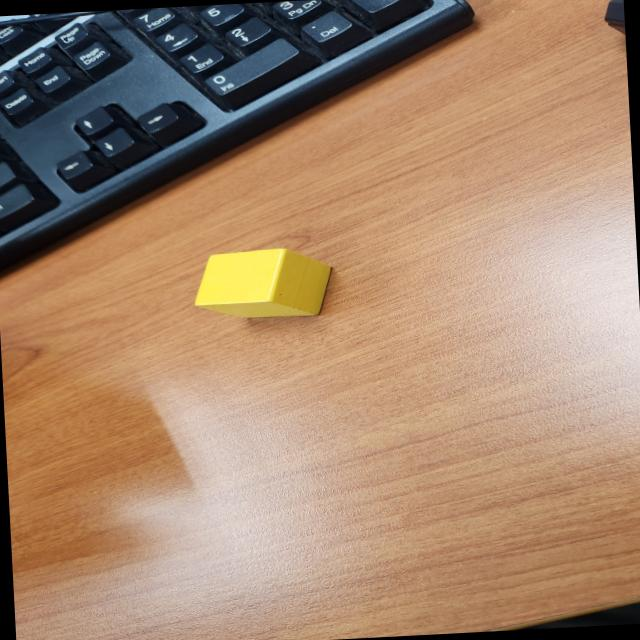yellow: (190, 246, 336, 323)
